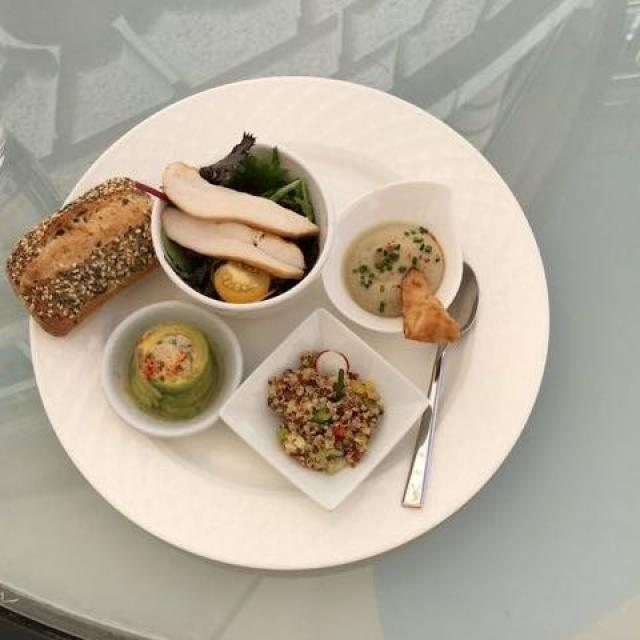bread: (4, 174, 148, 344)
cheese: (312, 350, 349, 382)
chicken: (161, 157, 310, 290)
eggplant-caviar: (338, 227, 442, 318)
guacamole: (127, 322, 223, 418)
quinoa: (270, 349, 372, 469)
salad: (207, 154, 319, 228), (172, 246, 285, 290)
tomato: (214, 261, 270, 299)
